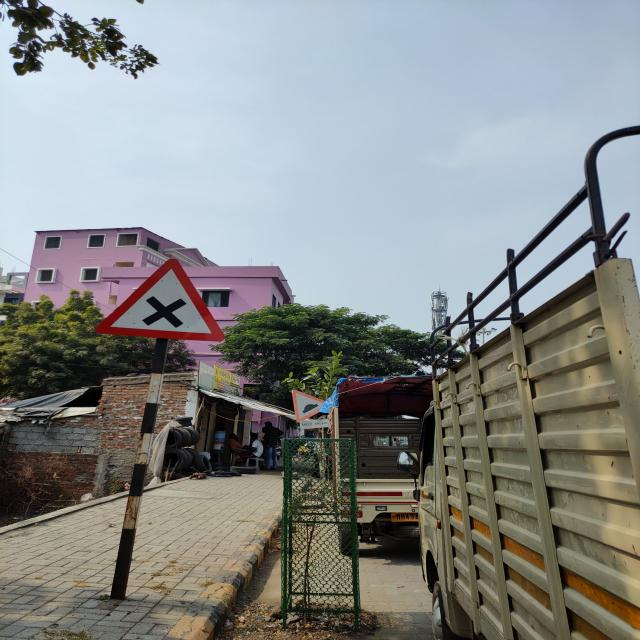CROSS_ROAD: (84, 256, 233, 342)
